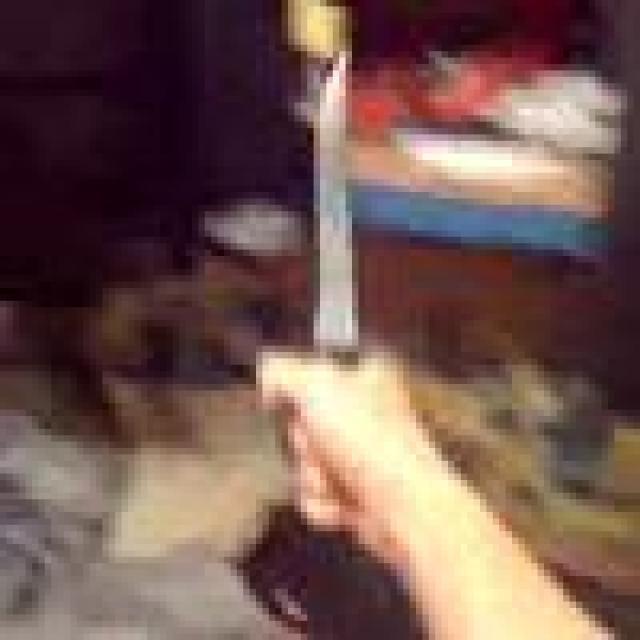knife: (316, 43, 354, 370)
